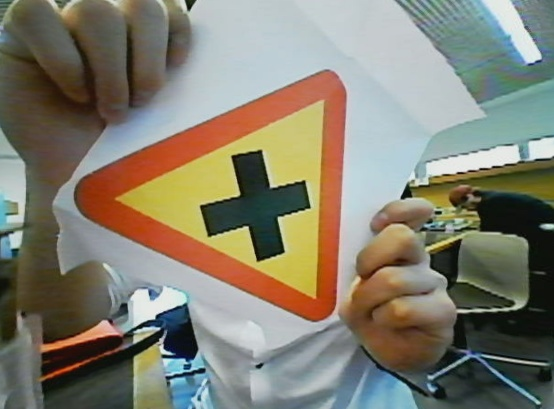junction: (77, 72, 326, 344)
